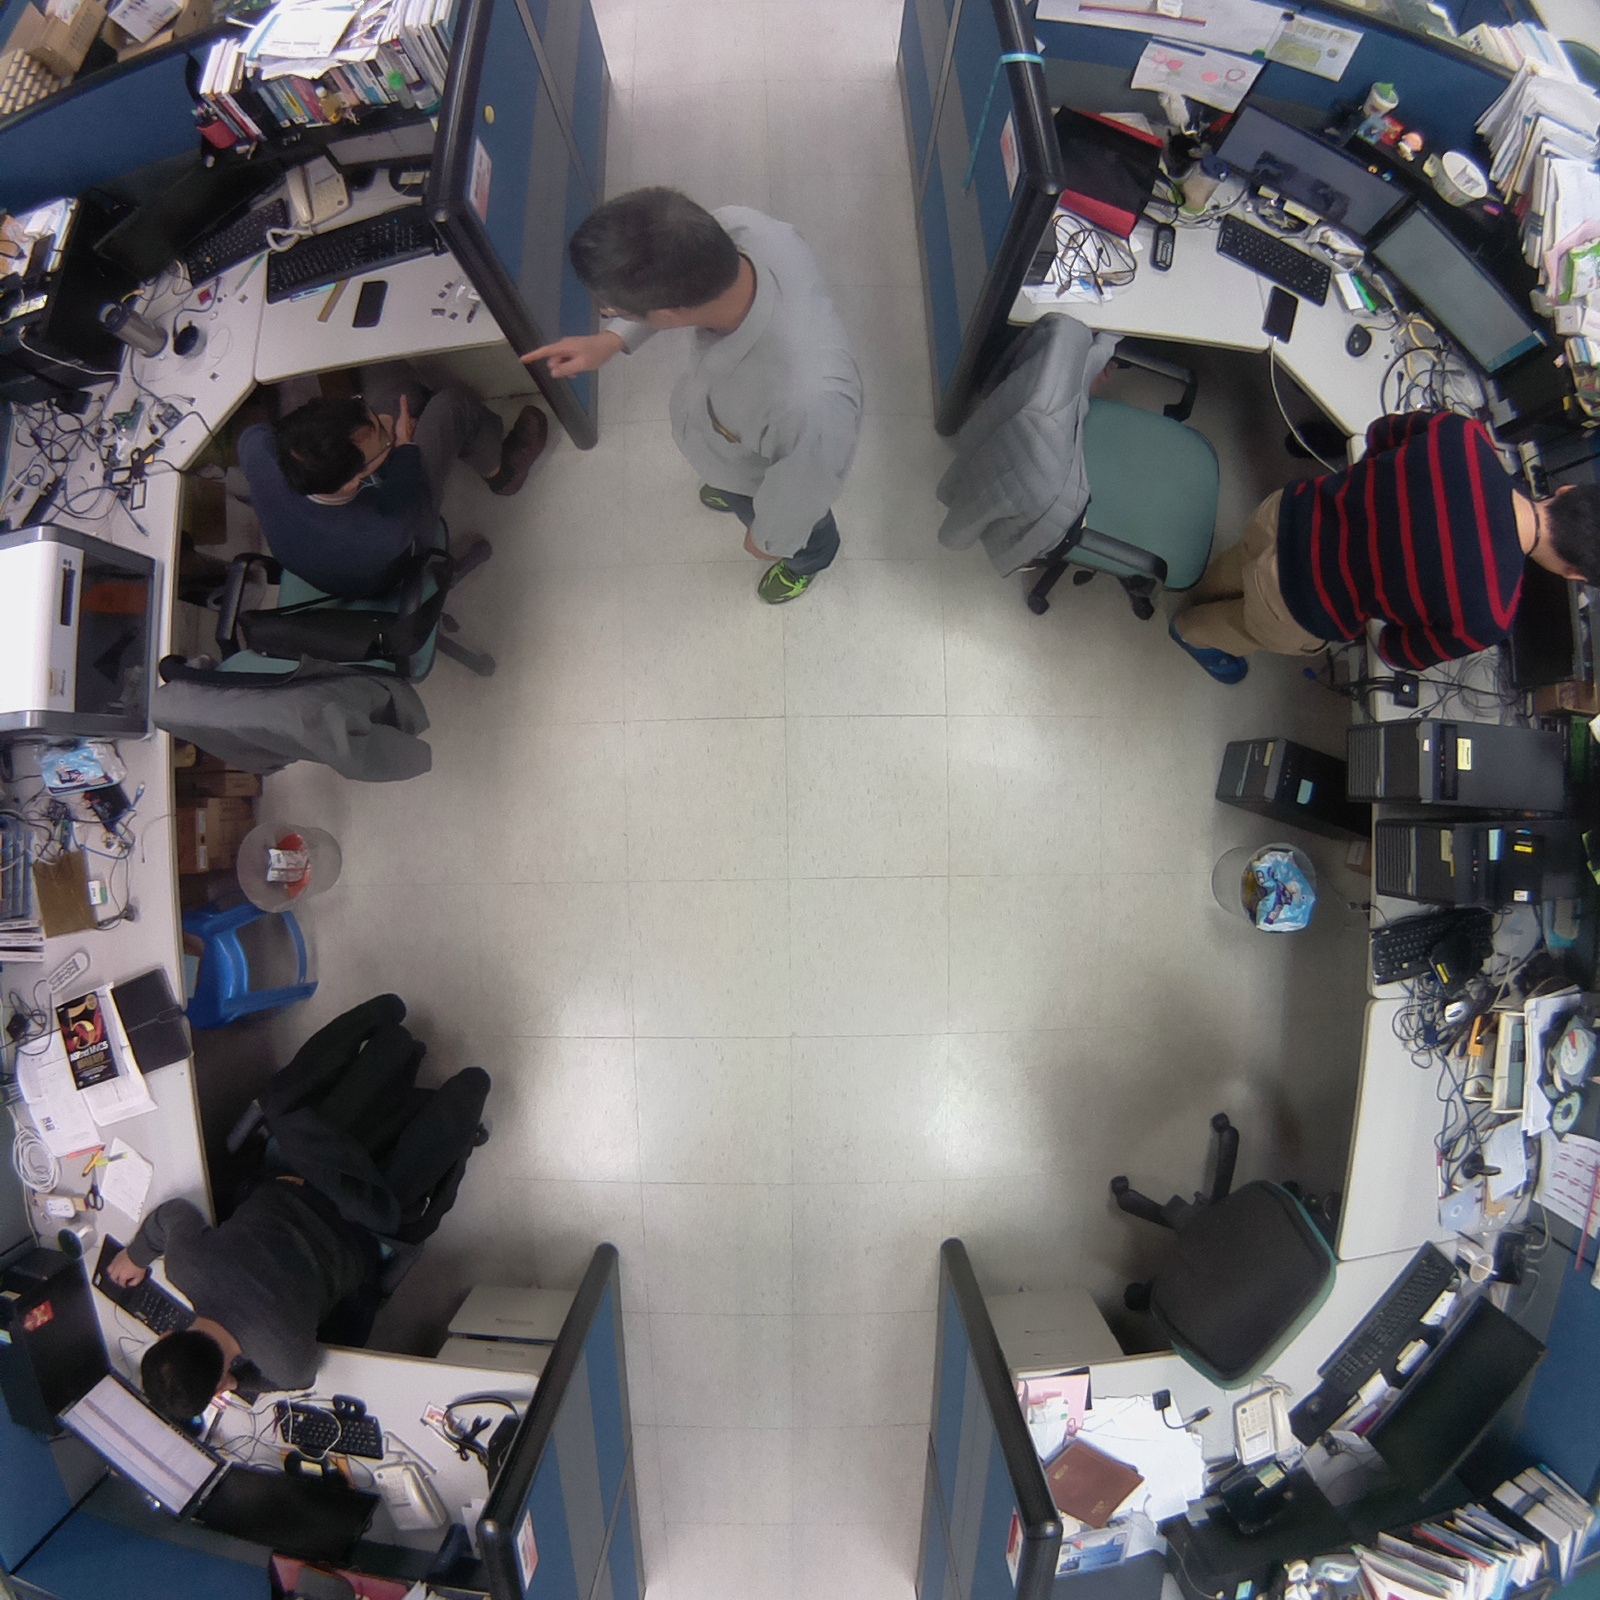chair: (927, 296, 1235, 660), (1088, 1099, 1355, 1406)
head: (561, 178, 751, 325), (270, 393, 397, 497), (138, 1317, 232, 1431), (1532, 478, 1600, 588)
sitting: (129, 383, 675, 799), (98, 975, 509, 1420), (1159, 395, 1600, 697)
standing: (533, 180, 878, 618)
